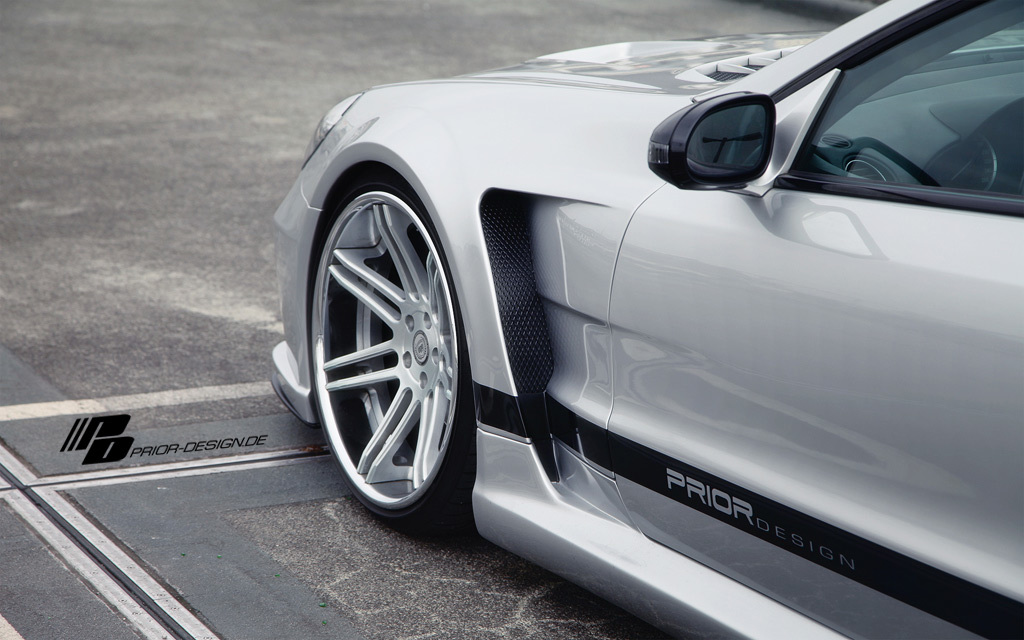Car: (277, 1, 999, 632)
